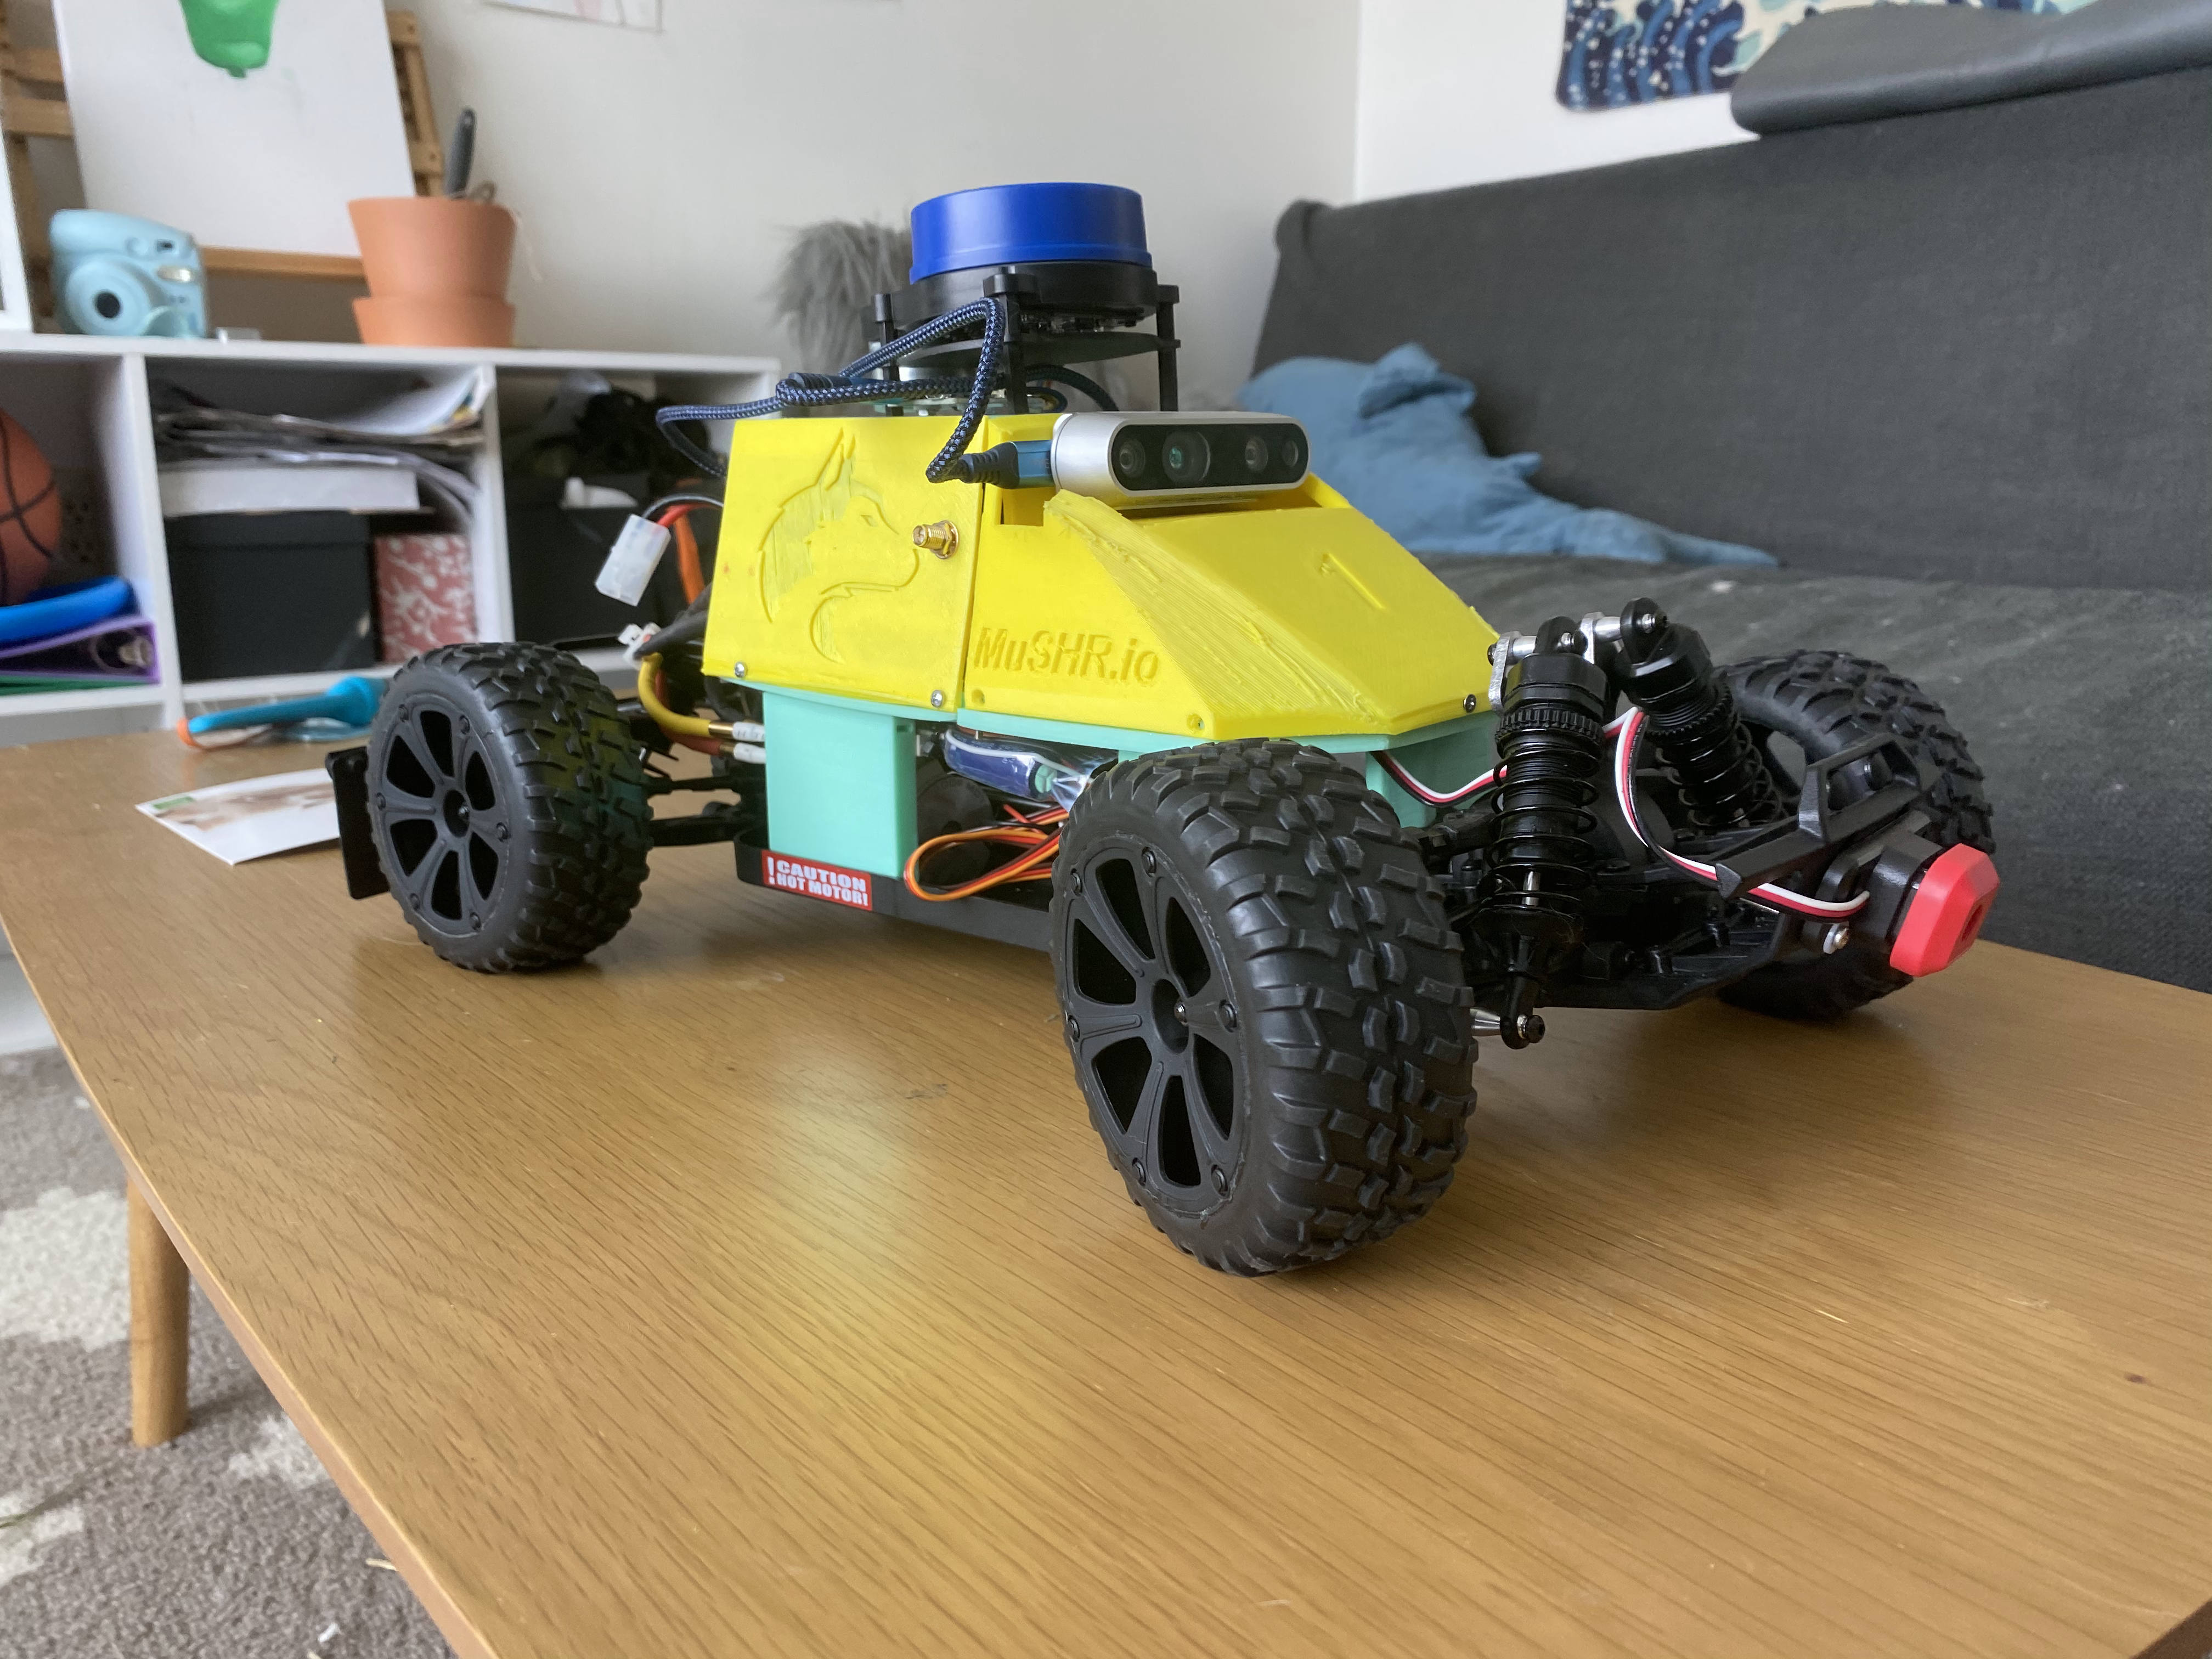mushr_car: (287, 176, 2012, 1304)
